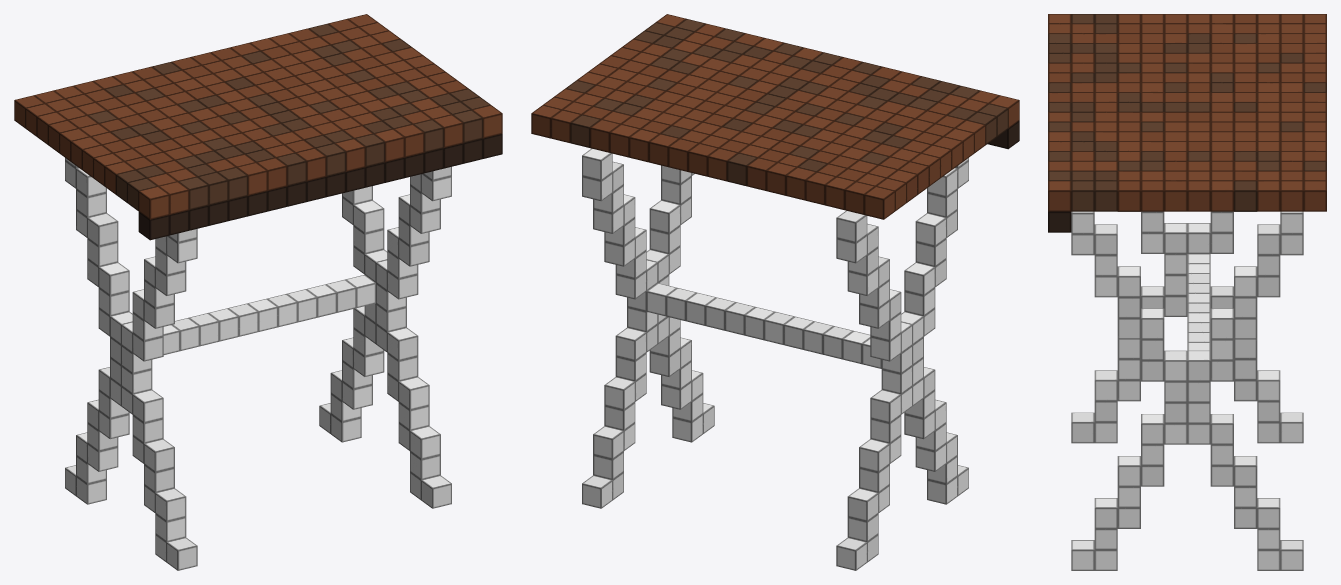
Rendered from entrance_table.glb.
3 renders of one model, left to right at view 1: azimuth 30°, elevation 25°; view 2: azimuth 150°, elevation 25°; view 3: azimuth 270°, elevation 25°, orthographic. The views are drawn at different scales.
Visible parts, largest first — view 1: entrance_table; view 2: entrance_table; view 3: entrance_table.
Boxes of the visible parts, x1=… form: entrance_table: x1=14, y1=14, x2=502, y2=570; entrance_table: x1=531, y1=14, x2=1019, y2=570; entrance_table: x1=1048, y1=14, x2=1326, y2=570.
Size of the model in its own units: 0.9 by 0.95 by 0.6.
Materials: 4 (4 with a texture image).
